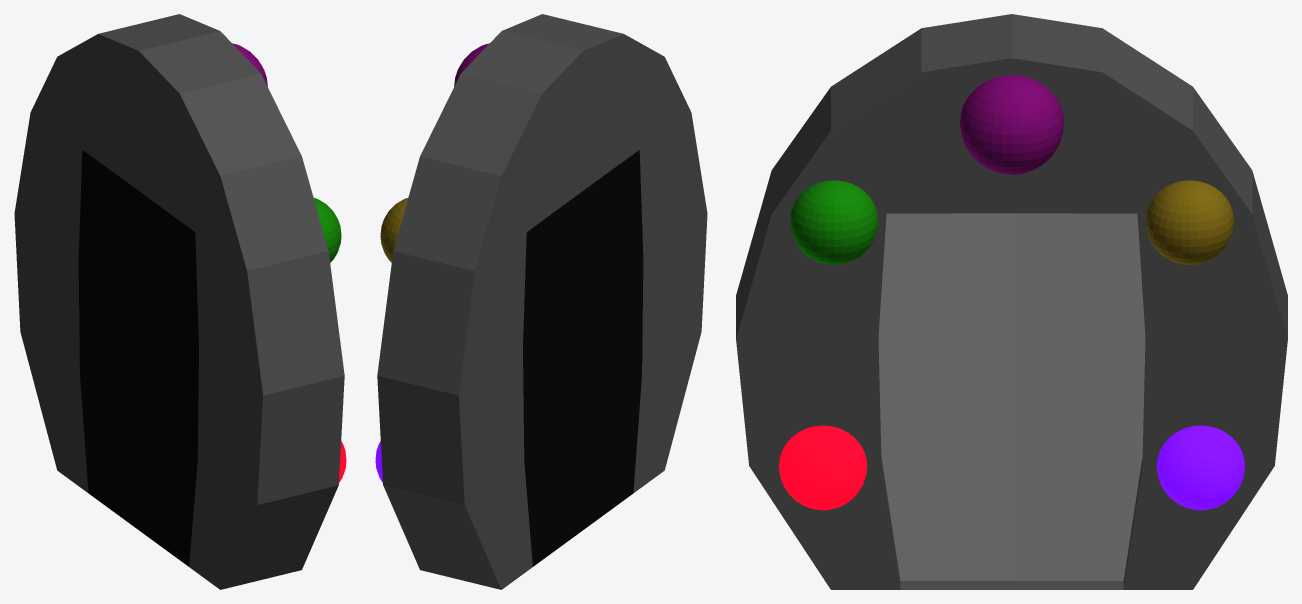
Rendered from 宝石扉(2光）.fbx.
3 views of the same model, side by side, from view 1: azimuth 30°, elevation 25°; view 2: azimuth 150°, elevation 25°; view 3: azimuth 270°, elevation 25° (orthographic). The views are drawn at different scales.
Parts seen in each view (by area): view 1: Cube, Cube.004; view 2: Cube, Cube.001; view 3: Cube, Cube.007, Cube.006, Cube.002, Cube.001, Cube.004, Cube.003, Cube.005.
Part boxes in pixels (x1,y1,x2,y2): Cube: (14, 14, 344, 589); Cube.004: (314, 198, 341, 262); Cube: (377, 14, 707, 589); Cube.001: (380, 198, 407, 262); Cube: (736, 14, 1287, 589); Cube.007: (878, 213, 1014, 580); Cube.006: (1013, 213, 1145, 580); Cube.002: (960, 75, 1063, 174); Cube.001: (1145, 180, 1233, 264); Cube.004: (790, 180, 878, 264); Cube.003: (779, 425, 867, 510); Cube.005: (1156, 425, 1244, 510).
Bounding box in the file's own units: 260 × 969 × 912.
